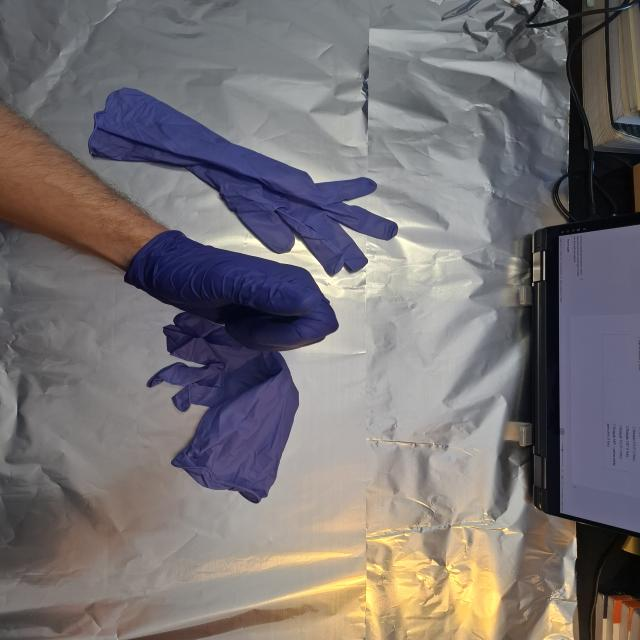glove_on: (121, 228, 344, 354)
